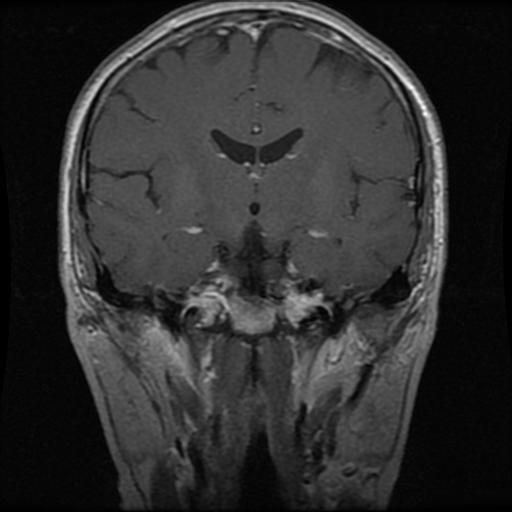Pituirity_tumour: (226, 294, 277, 332)
